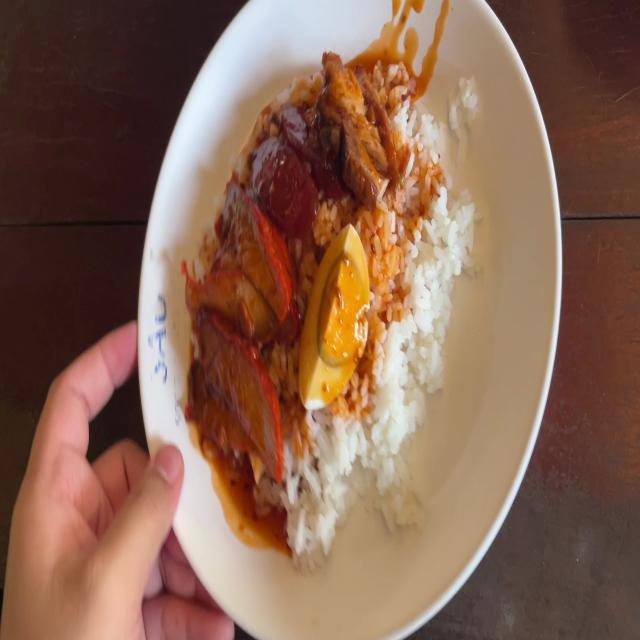red_pork_and_crispy_pork: (299, 226, 367, 405)
stir_fried_basil: (256, 106, 330, 226)
